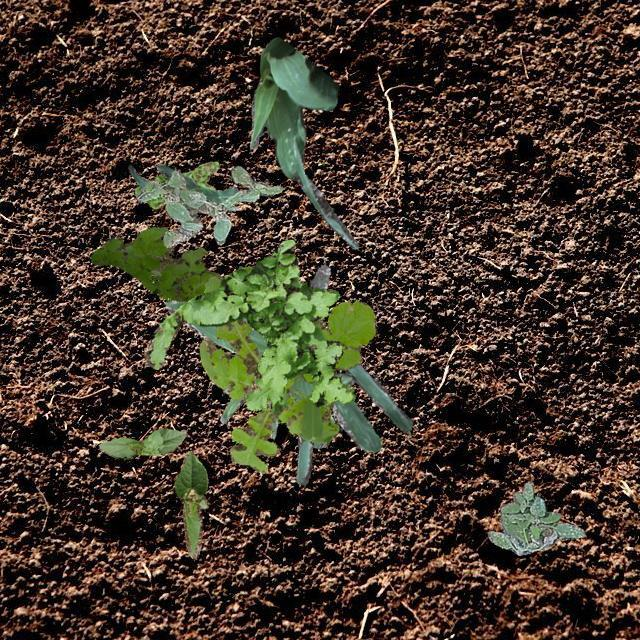crop: (164, 262, 412, 483), (248, 36, 358, 248), (218, 372, 354, 447), (126, 162, 238, 210), (174, 450, 208, 558), (98, 428, 186, 457)
weed: (143, 238, 354, 412), (198, 266, 374, 472), (136, 165, 284, 246), (90, 226, 220, 302), (487, 481, 582, 554), (134, 160, 218, 208)
